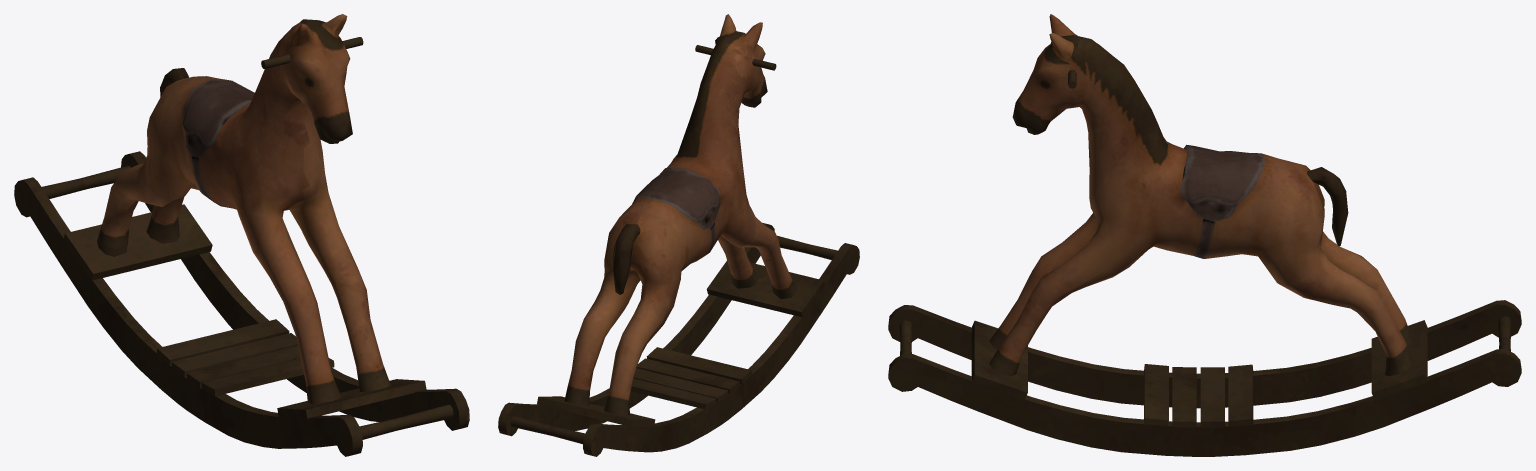
The model's file is horse.fbx.
3 views of the same model, side by side, from view 1: azimuth 30°, elevation 25°; view 2: azimuth 150°, elevation 25°; view 3: azimuth 270°, elevation 25° (orthographic). The views are drawn at different scales.
Visible parts, largest first — view 1: horse; view 2: horse; view 3: horse.
Boxes of the visible parts, x1,y1,x2,y2 form: horse: (14, 14, 469, 456); horse: (498, 14, 859, 456); horse: (888, 14, 1521, 456).
Bounding box in the file's own units: 39.9 × 139 × 196.
Materials: 1 (1 with a texture image).
